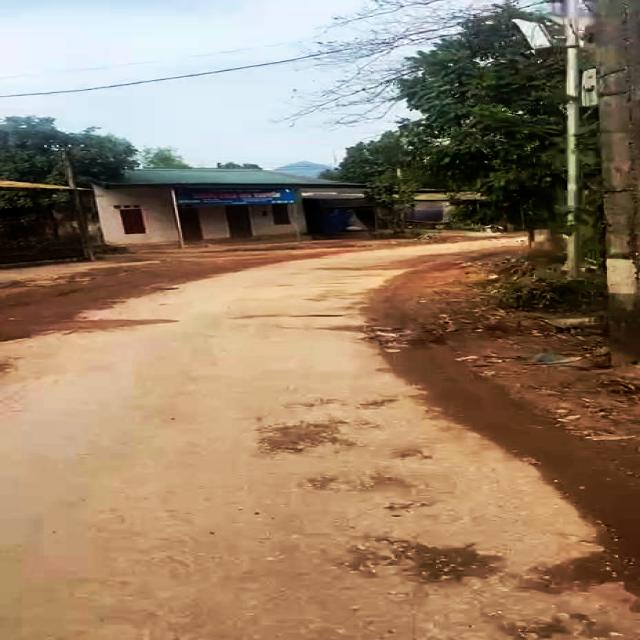pothole: (376, 534, 630, 596), (262, 415, 348, 455)
